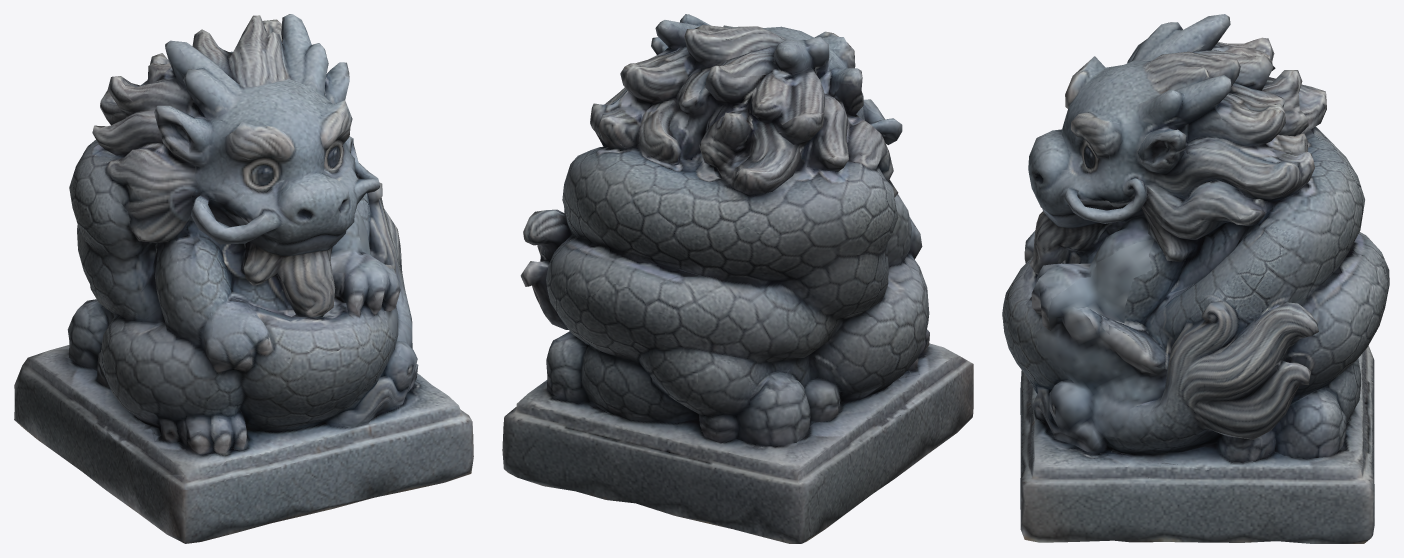
File: 경복궁_석상_청룡.glb
The picture shows the model from 3 angles, left to right: view 1: azimuth 30°, elevation 25°; view 2: azimuth 150°, elevation 25°; view 3: azimuth 270°, elevation 25°; orthographic projection. The views are drawn at different scales.
Visible parts, largest first — view 1: texture_mapping; view 2: texture_mapping; view 3: texture_mapping.
Part boxes in pixels (x1=…): texture_mapping: x1=14, y1=14, x2=473, y2=543; texture_mapping: x1=502, y1=14, x2=973, y2=543; texture_mapping: x1=1002, y1=14, x2=1389, y2=543.
Bounding box in the file's own units: 0.8137 × 1 × 0.8214.
1 material, 1 textured.
